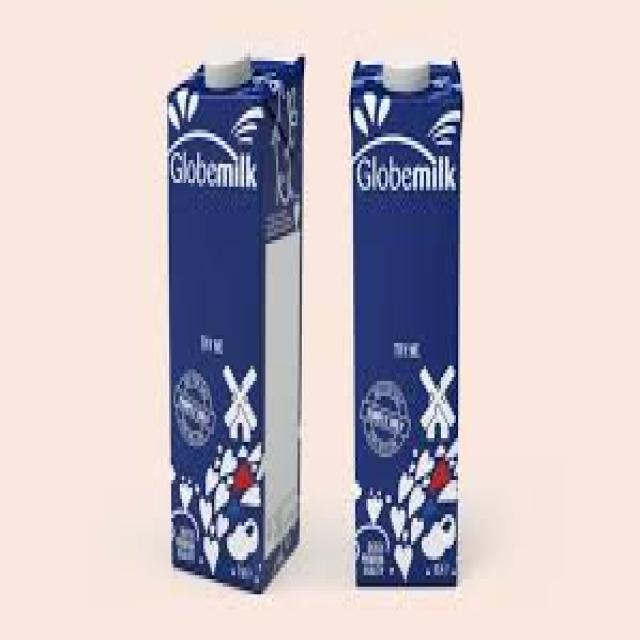milk: (157, 33, 315, 619), (337, 27, 474, 618)
